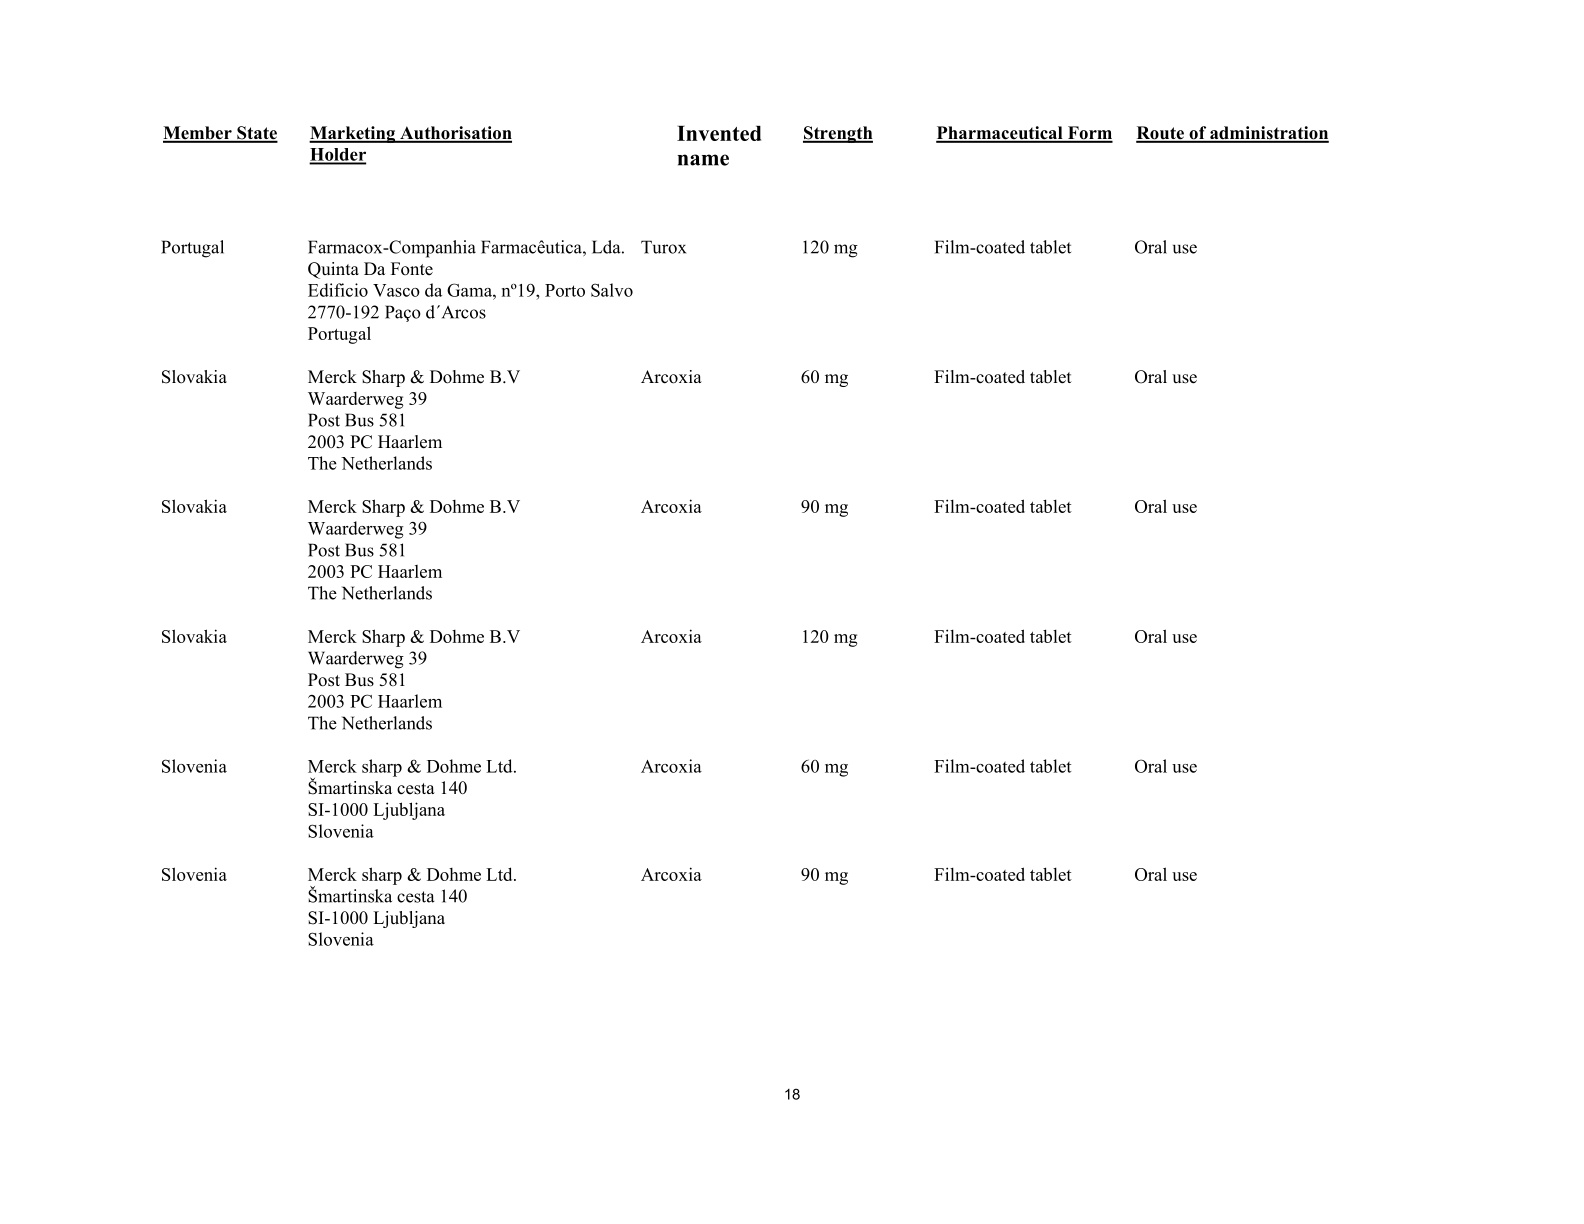nolines: (159, 122, 1329, 949)
